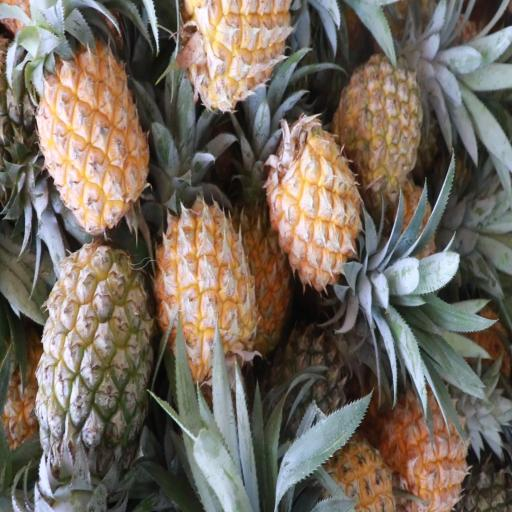------------------------------: (40, 246, 152, 466), (338, 60, 421, 195)
Pineapple - v8 v1: (42, 49, 146, 233), (155, 202, 249, 378), (274, 121, 362, 284), (186, 0, 293, 105), (386, 388, 471, 512), (232, 204, 290, 356)
